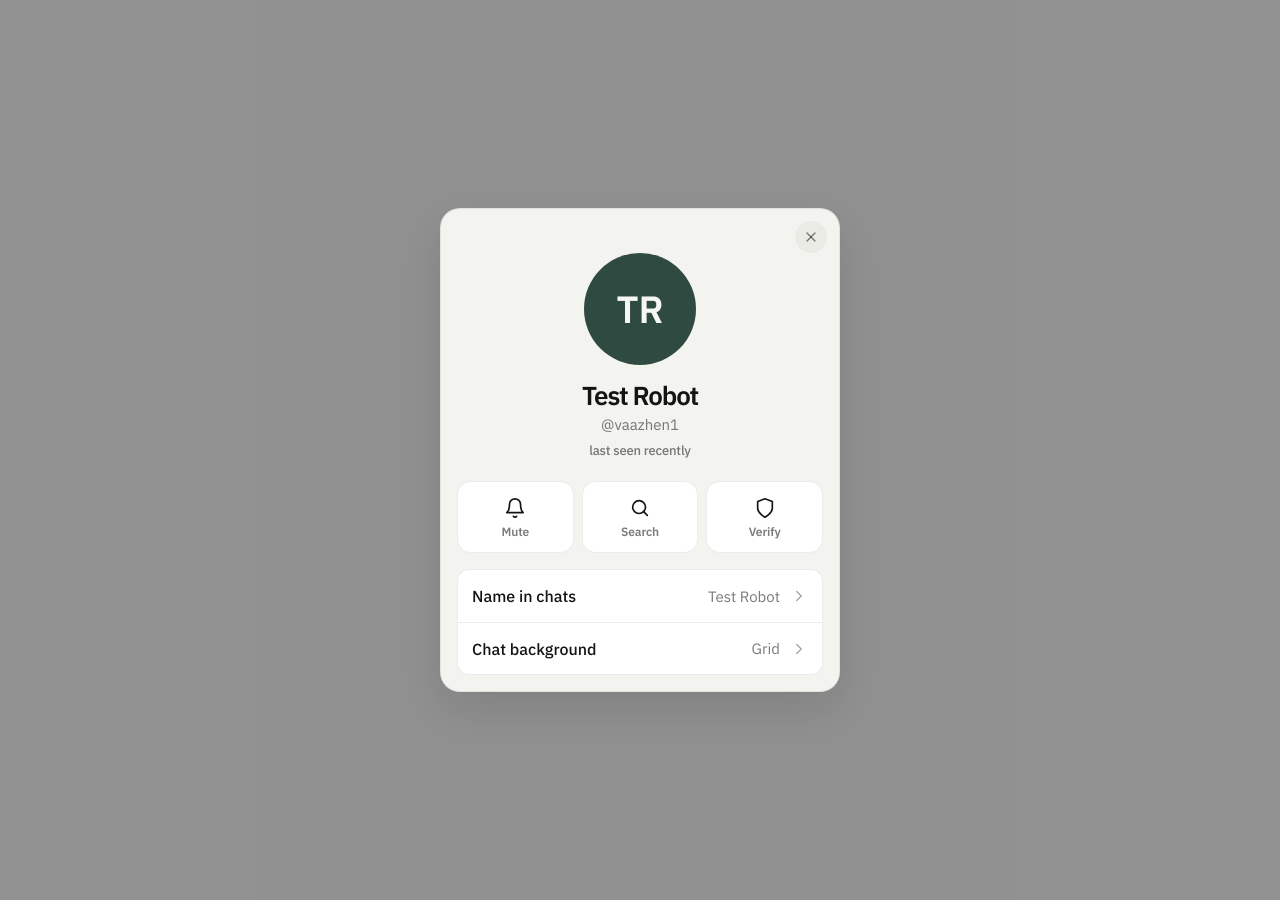
Test: UserProfileModal › opens wallpaper as a nested screen
Click the text "Chat background": click(534, 649) x1=472 y1=639 x2=596 y2=659
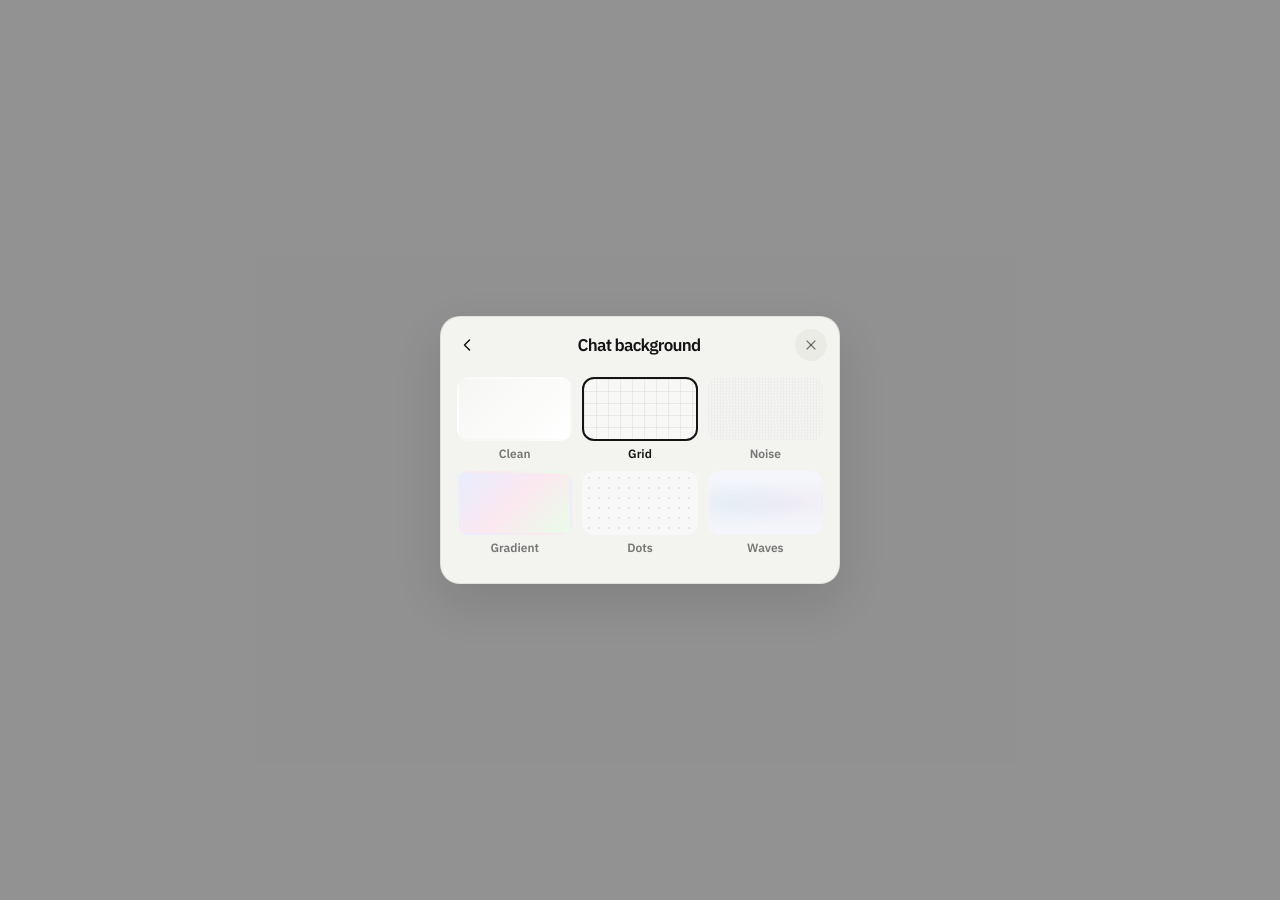
expect the text "Waves" is shown: met, box x1=747 y1=540 x2=784 y2=555
expect the text "Noise" is shown: met, box x1=750 y1=446 x2=781 y2=461
expect the button "Mute" is gone: met
